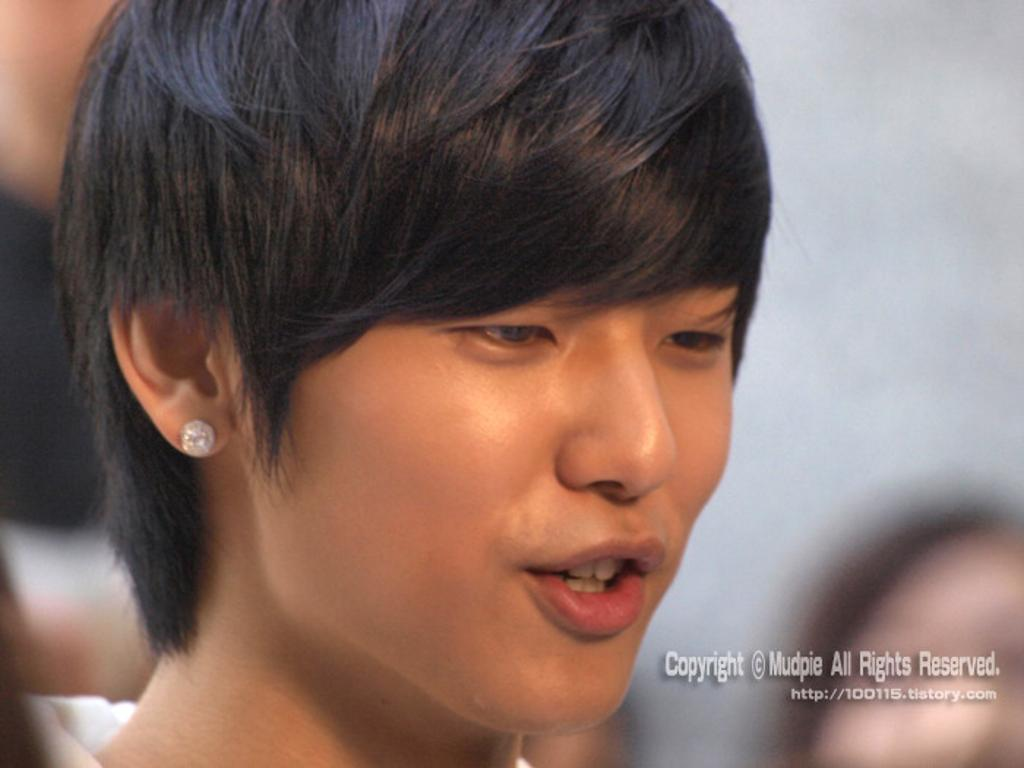face: (248, 66, 762, 730)
